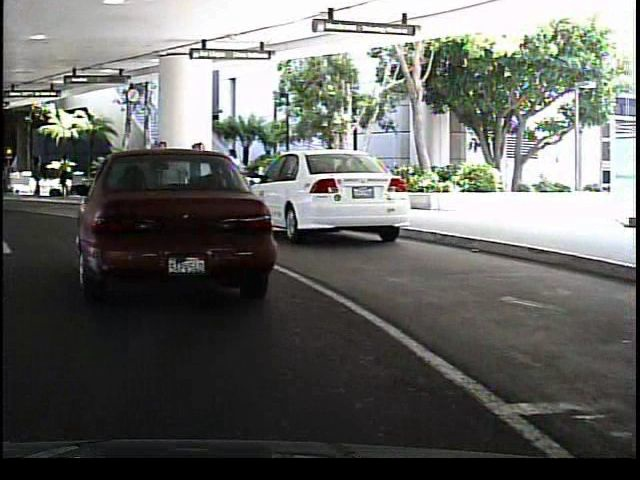person: (182, 136, 208, 211), (147, 135, 172, 207), (216, 145, 245, 201), (259, 145, 283, 191), (28, 148, 47, 200), (54, 155, 76, 196)
